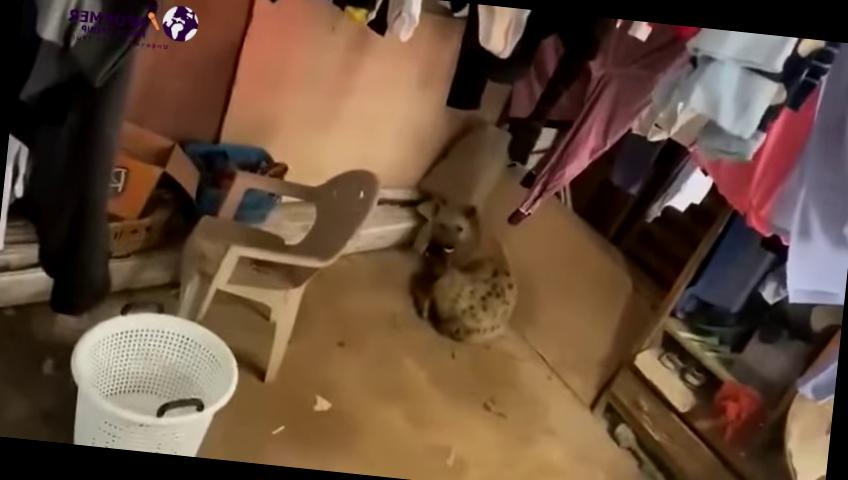hyenas: (390, 179, 530, 369)
